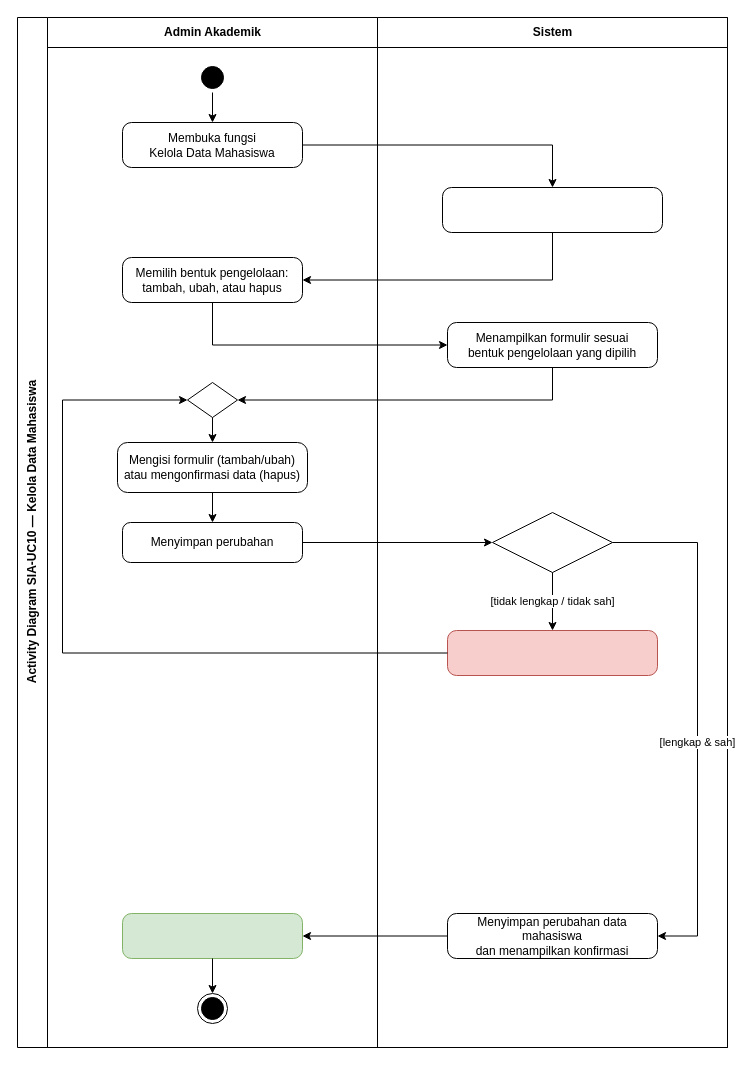
The diagram is 753 pixels wide and 1065 high, and some of its shapes have lost their labels. The centre of each missing label's shape, as x and y in pixels:
Data lengkap & sah?: (x=552, y=542)
Menampilkan daftar data mahasiswa (NIM, nama, prodi, angkatan, status): (x=552, y=209)
Menerima konfirmasi perubahan data tersimpan: (x=212, y=935)
Menolak penyimpanan & menampilkan pesan kesalahan data: (x=552, y=653)
